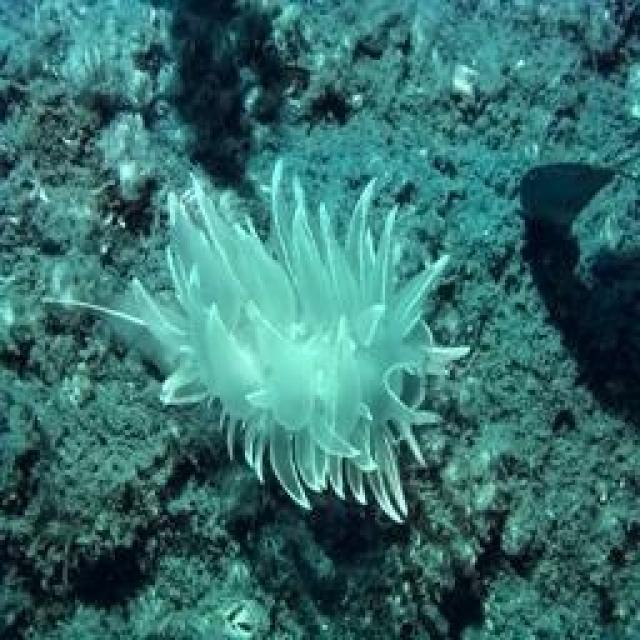reefs: (40, 158, 474, 524)
